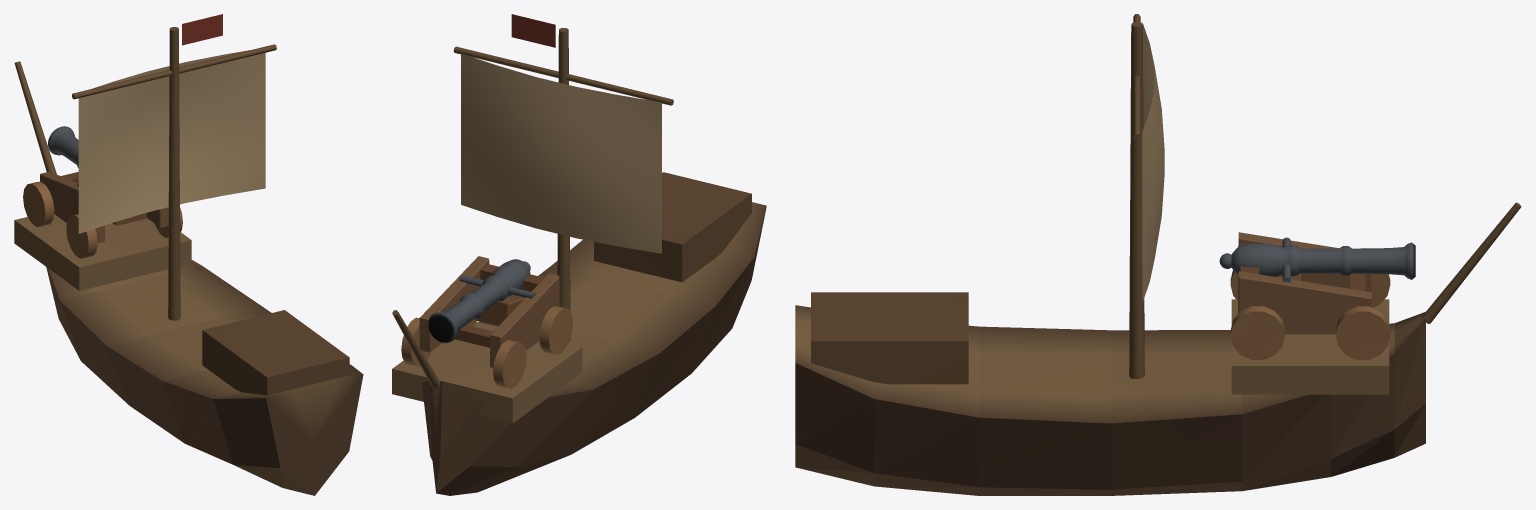
File: pirate-ship.glb
The picture shows the model from 3 angles, left to right: view 1: azimuth 30°, elevation 25°; view 2: azimuth 150°, elevation 25°; view 3: azimuth 270°, elevation 25°; orthographic projection. The views are drawn at different scales.
Parts seen in each view (by area): view 1: ship-hull, ship-carriage, ship-barrel; view 2: ship-hull, ship-carriage, ship-barrel; view 3: ship-hull, ship-carriage, ship-barrel.
Part boxes in pixels (x1,y1,x2,y2): ship-hull: (14, 14, 363, 495); ship-carriage: (23, 171, 182, 258); ship-barrel: (48, 126, 78, 186); ship-hull: (392, 14, 766, 495); ship-carriage: (401, 256, 572, 388); ship-barrel: (428, 259, 535, 343); ship-hull: (795, 14, 1521, 495); ship-carriage: (1230, 232, 1390, 359); ship-barrel: (1219, 237, 1415, 282).
Bounding box in the file's own units: 0.54 × 0.9975 × 1.38.
